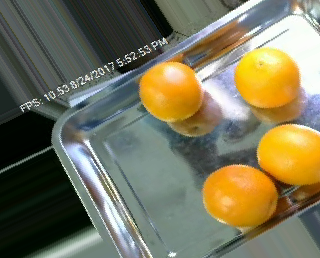Orange: (201, 164, 279, 227), (235, 47, 301, 109), (256, 122, 320, 185), (138, 59, 203, 121)
